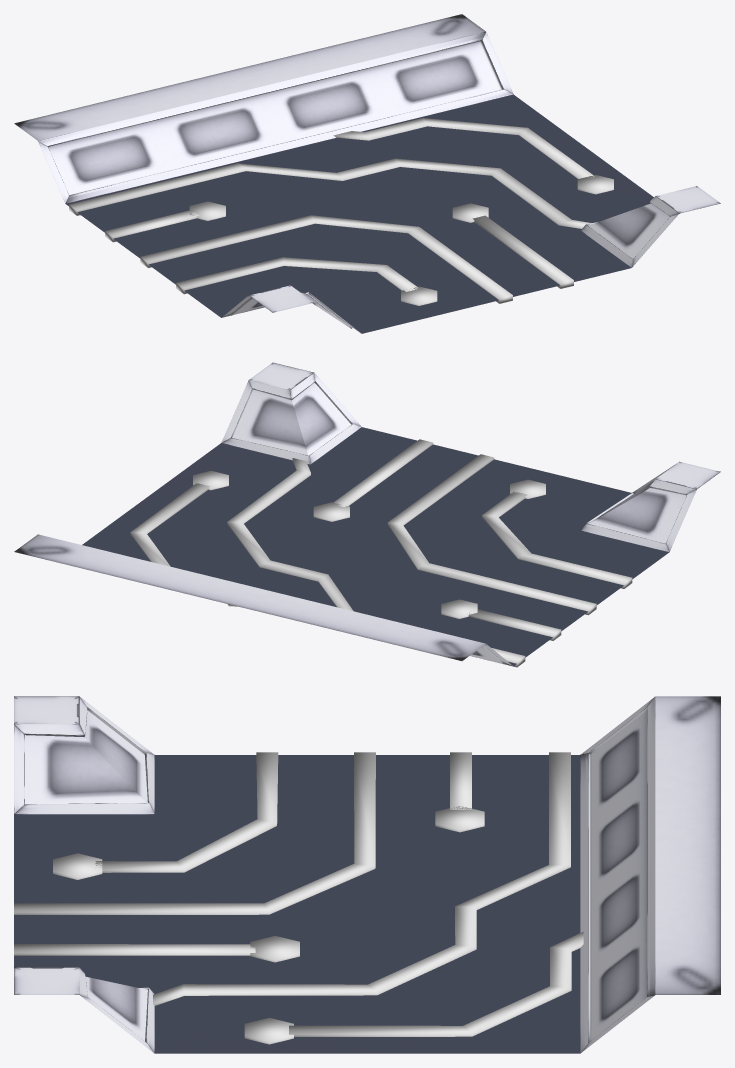
Rendered from T Alt Yol.fbx.
3 views of the same model, one above another, from view 1: azimuth 30°, elevation 25°; view 2: azimuth 150°, elevation 25°; view 3: azimuth 270°, elevation 25° (orthographic). The views are drawn at different scales.
Visible parts, largest first — view 1: Taltyol; view 2: Taltyol; view 3: Taltyol.
Boxes of the visible parts, left/top/right/bottom form: Taltyol: left=14, top=14, right=720, bottom=333; Taltyol: left=14, top=362, right=720, bottom=667; Taltyol: left=14, top=696, right=720, bottom=1053.
Bounding box in the file's own units: 200 × 19.81 × 200.
